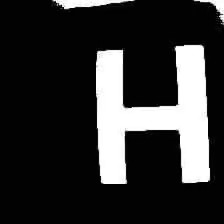LTR_H: (82, 32, 218, 189)
